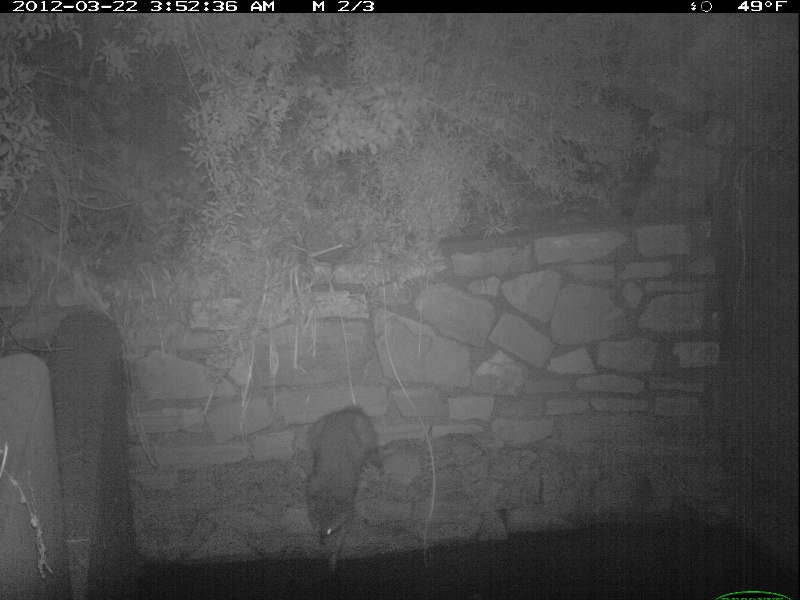raccoon: (300, 400, 386, 549)
